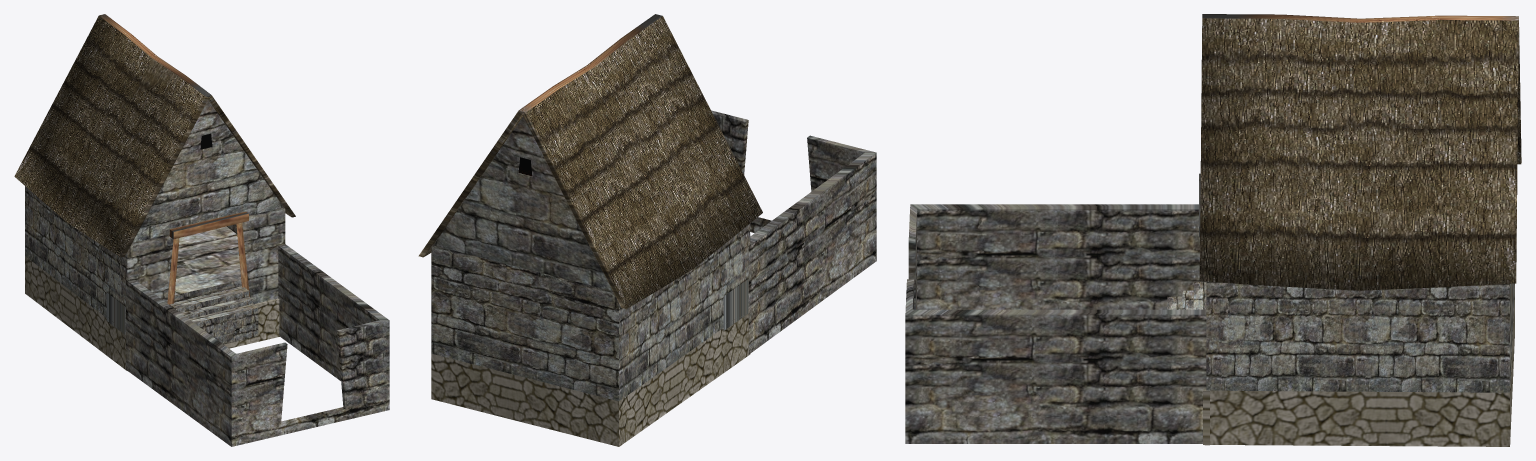
The model's file is inca_corral.dae.
3 renders of one model, left to right at view 1: azimuth 30°, elevation 25°; view 2: azimuth 150°, elevation 25°; view 3: azimuth 270°, elevation 25°, orthographic. The views are drawn at different scales.
Parts seen in each view (by area): view 1: corral_001; view 2: corral_001; view 3: corral_001.
Part boxes in pixels (left/top/right/bottom): corral_001: left=14, top=14, right=389, bottom=446; corral_001: left=418, top=14, right=876, bottom=446; corral_001: left=905, top=14, right=1521, bottom=446.
Bounding box in the file's own units: 8.43 × 17.64 × 11.8.
